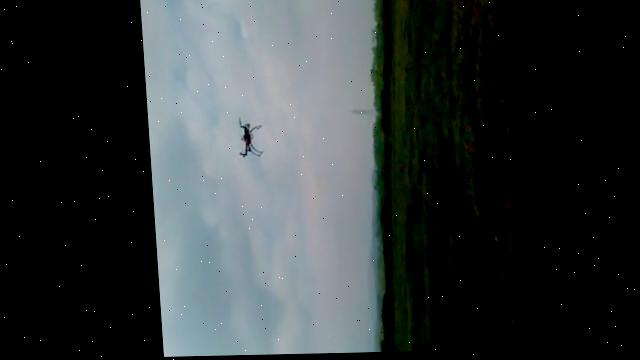drone: (232, 117, 263, 161)
